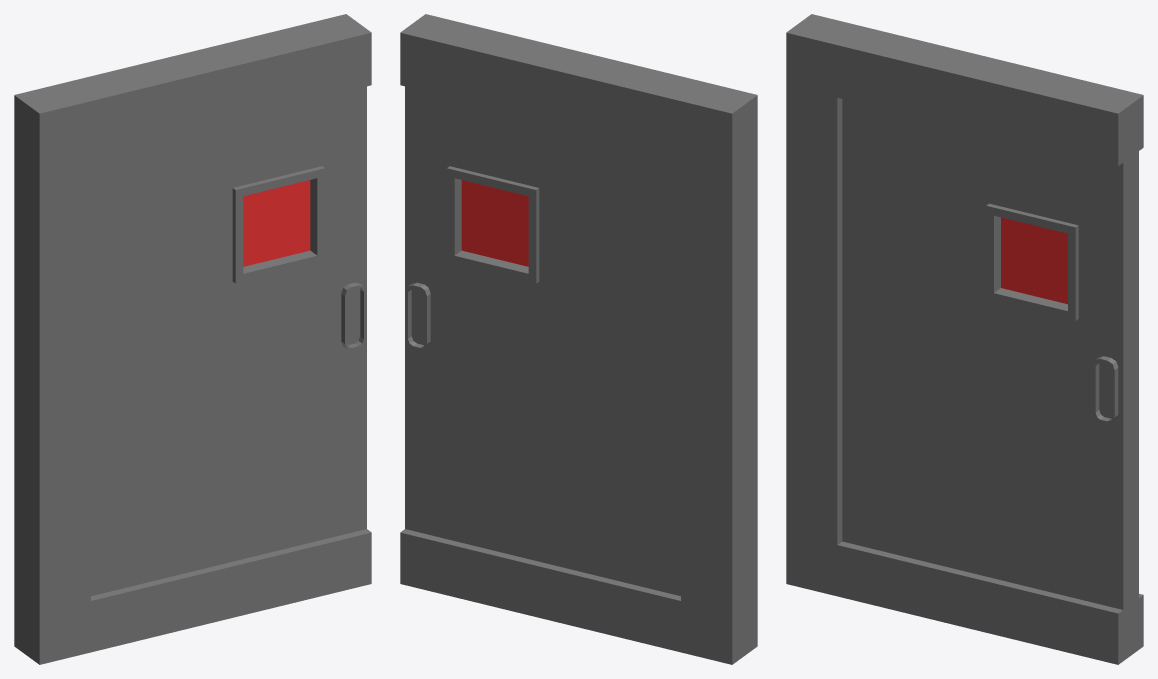
The model's file is Enterance_Door_02.fbx.
3 renders of one model, left to right at view 1: azimuth 30°, elevation 25°; view 2: azimuth 150°, elevation 25°; view 3: azimuth 330°, elevation 25°, orthographic.
Visible parts, largest first — view 1: Box003; view 2: Box003; view 3: Box003.
Boxes of the visible parts, <box> form: Box003: <box>14,14,371,664</box>; Box003: <box>400,14,757,664</box>; Box003: <box>786,14,1143,664</box>.
Size of the model in its own units: 59.58 by 94.49 by 7.93.
